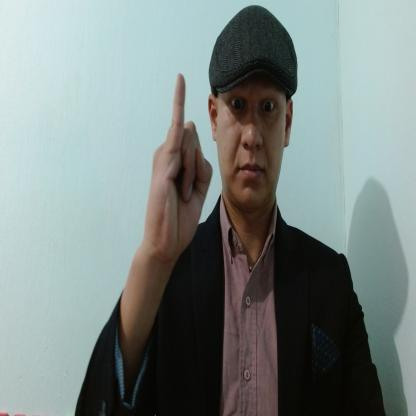I: (144, 70, 216, 265)
